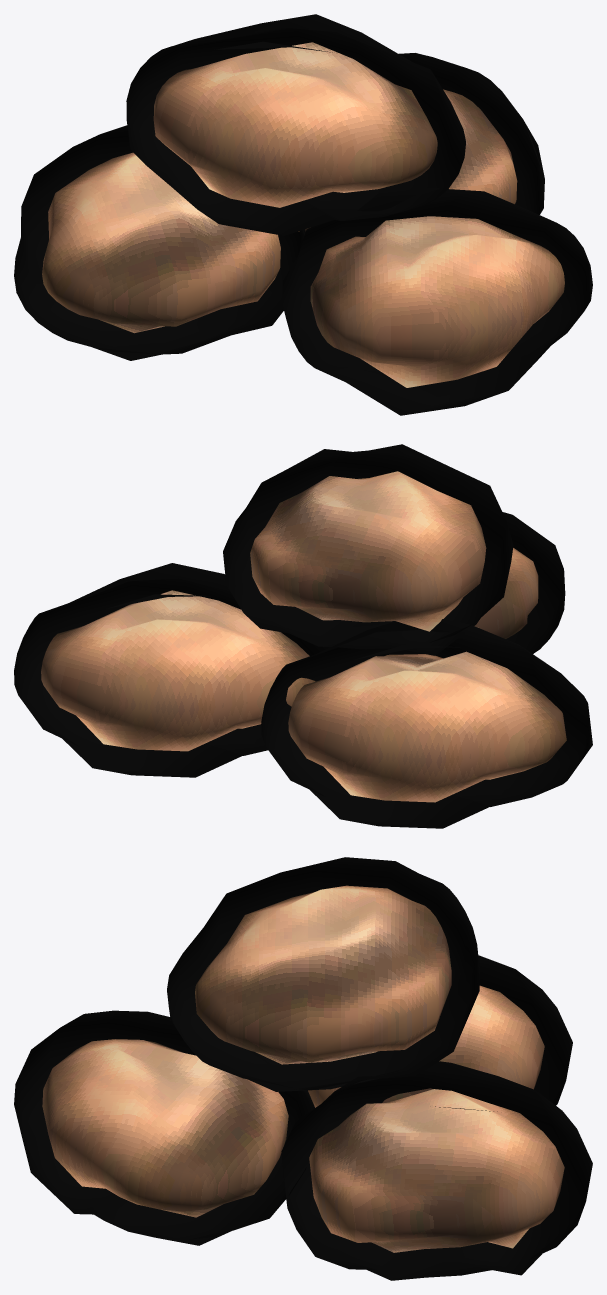
File: STONEPILE.fbx
The picture shows the model from 3 angles, top to bottom: view 1: azimuth 30°, elevation 25°; view 2: azimuth 150°, elevation 25°; view 3: azimuth 270°, elevation 25°; orthographic projection. The views are drawn at different scales.
Parts seen in each view (by area): view 1: STONEPILE; view 2: STONEPILE; view 3: STONEPILE.
Part boxes in pixels (x1=…): STONEPILE: x1=14, y1=14, x2=592, y2=415; STONEPILE: x1=14, y1=444, x2=592, y2=828; STONEPILE: x1=14, y1=857, x2=592, y2=1280.
Size of the model in its own units: 4812 by 2663 by 4549.
1 material, 1 textured.
